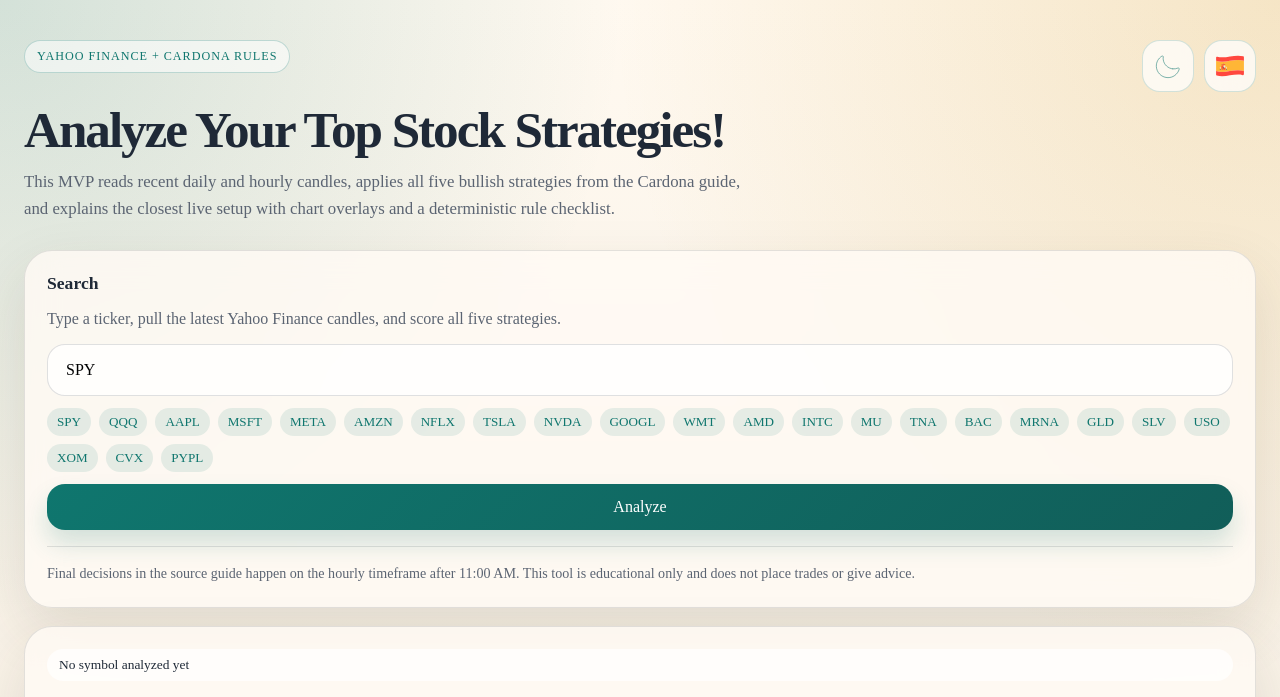
AnalyzerClient › toggles dark mode and updates the document theme
Click the button named "Dark mode".
click(1168, 66)  # box top-left (1142, 40), bottom-right (1194, 92)
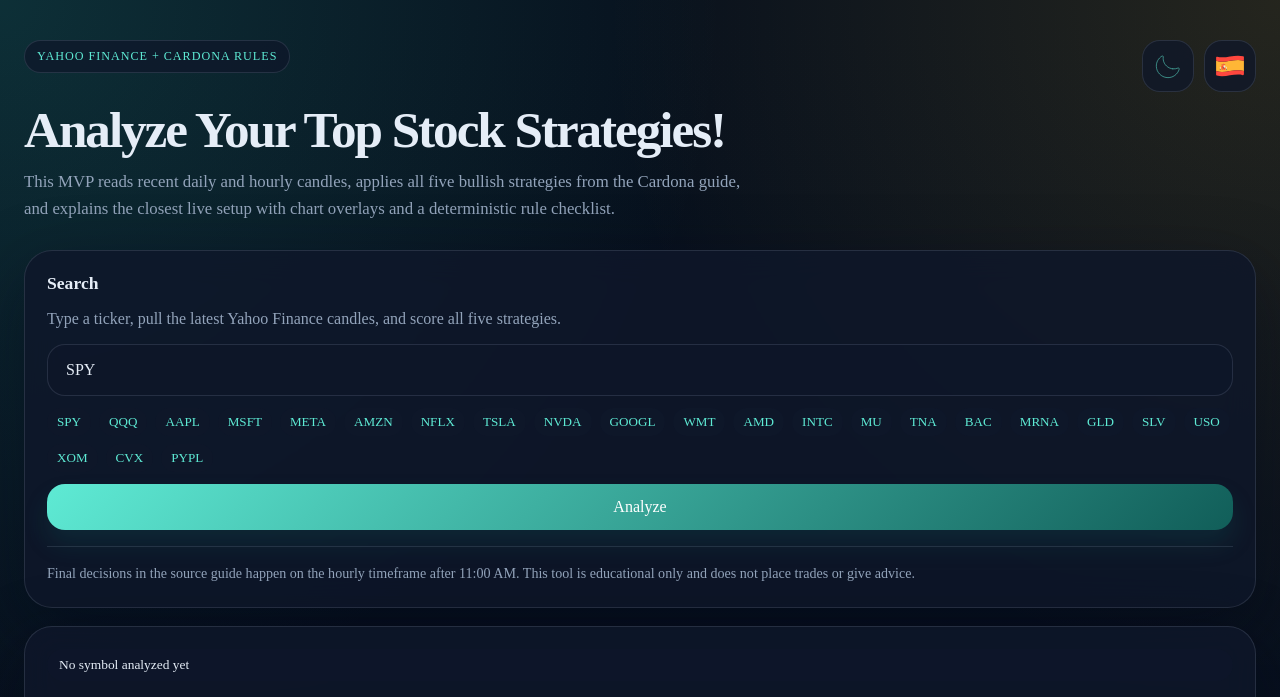
Check: the button named "Light mode" is shown, box top-left (1142, 40), bottom-right (1194, 92)
